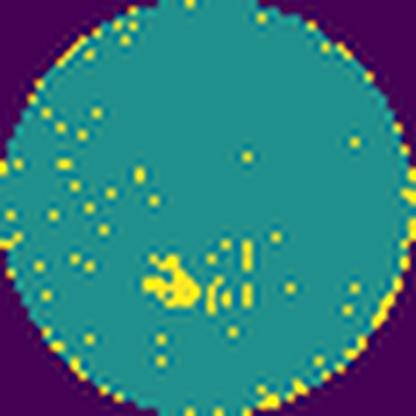Loc: (143, 247, 204, 309)
